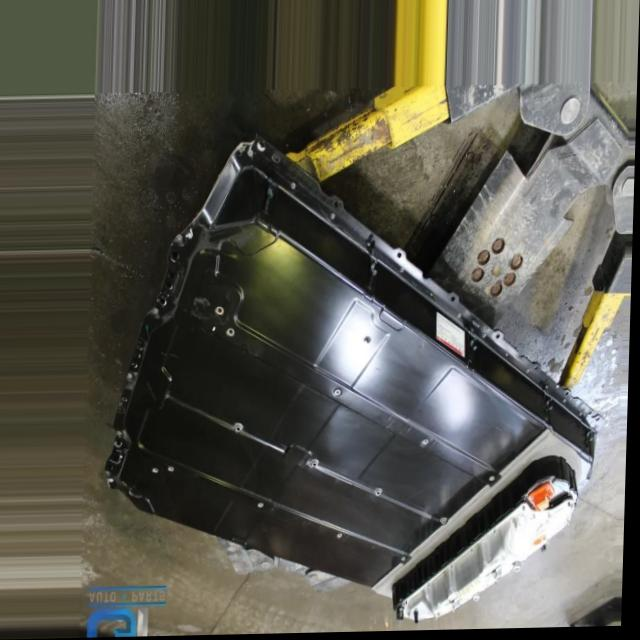Nut: (231, 414, 255, 435), (373, 482, 391, 502), (439, 515, 461, 529), (310, 454, 328, 470)
Screw: (224, 322, 245, 350), (329, 380, 354, 403), (214, 294, 235, 320), (485, 469, 505, 493), (338, 522, 358, 545), (399, 548, 417, 573), (423, 431, 440, 456), (168, 457, 183, 482), (261, 492, 276, 515), (153, 459, 166, 478)
